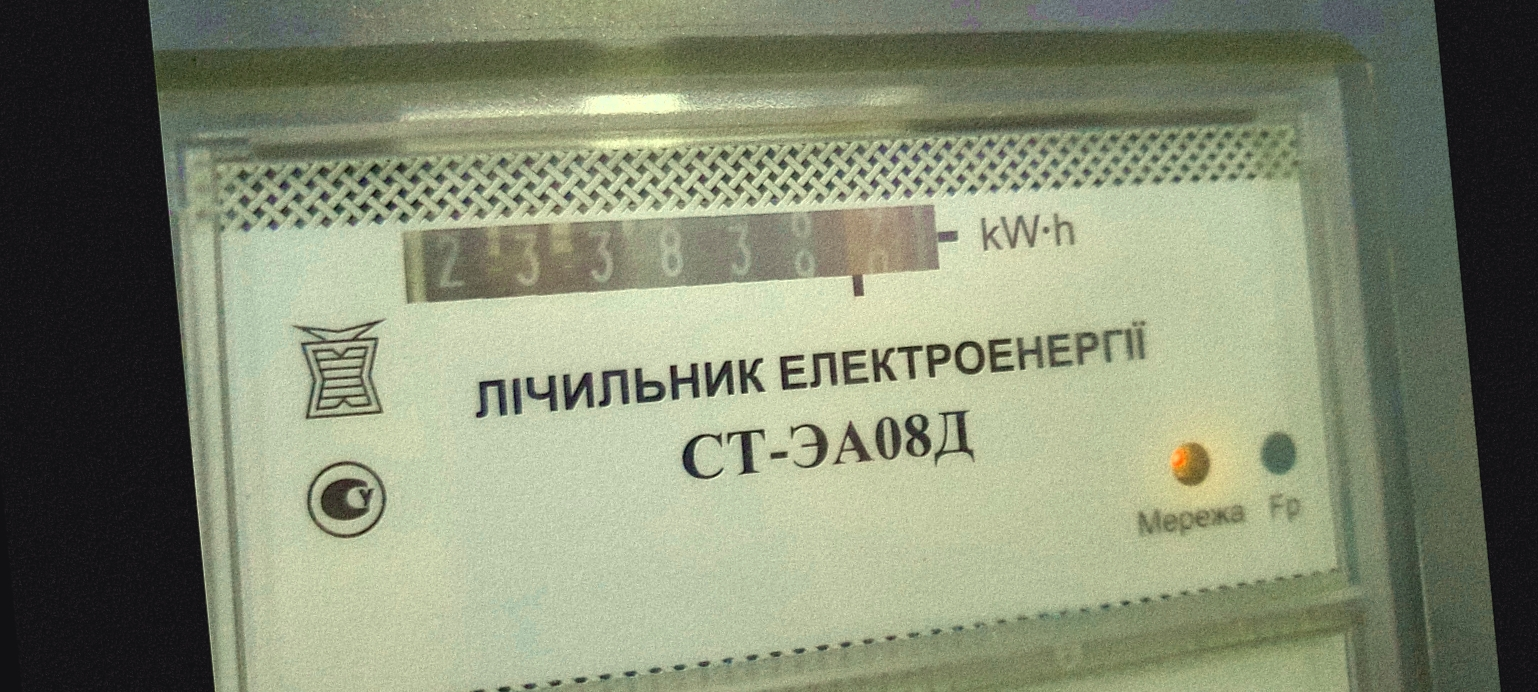0: (864, 245, 893, 281)
2: (428, 229, 472, 293)
3: (579, 222, 621, 289), (724, 218, 757, 278), (511, 228, 543, 289)
8: (651, 220, 690, 281), (788, 206, 817, 240)
9: (858, 201, 891, 242), (790, 245, 822, 283)
screen: (369, 156, 974, 368)
